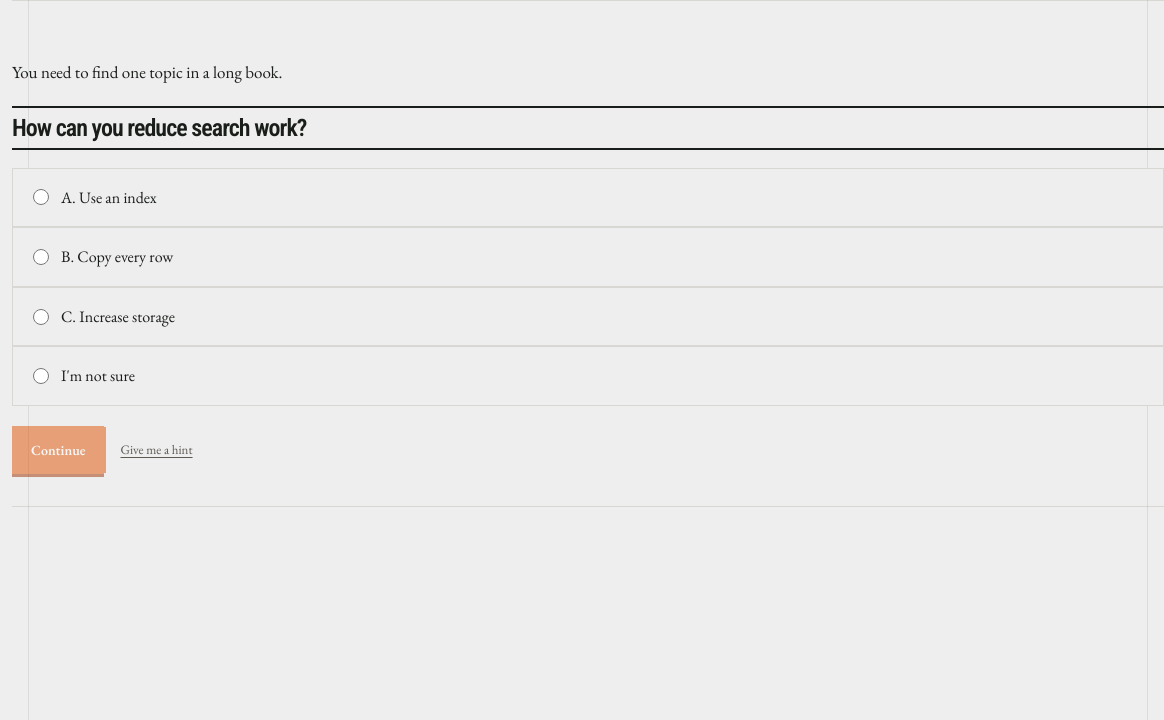
Test: keeps the selected answer on errors and retries only after the learner acts
Expected: the heading "How can you reduce search work?" is shown, [12,114,306,142]
Click the radio button labelled "B. Copy every row".
click(41, 257)  # box [33,249,49,265]
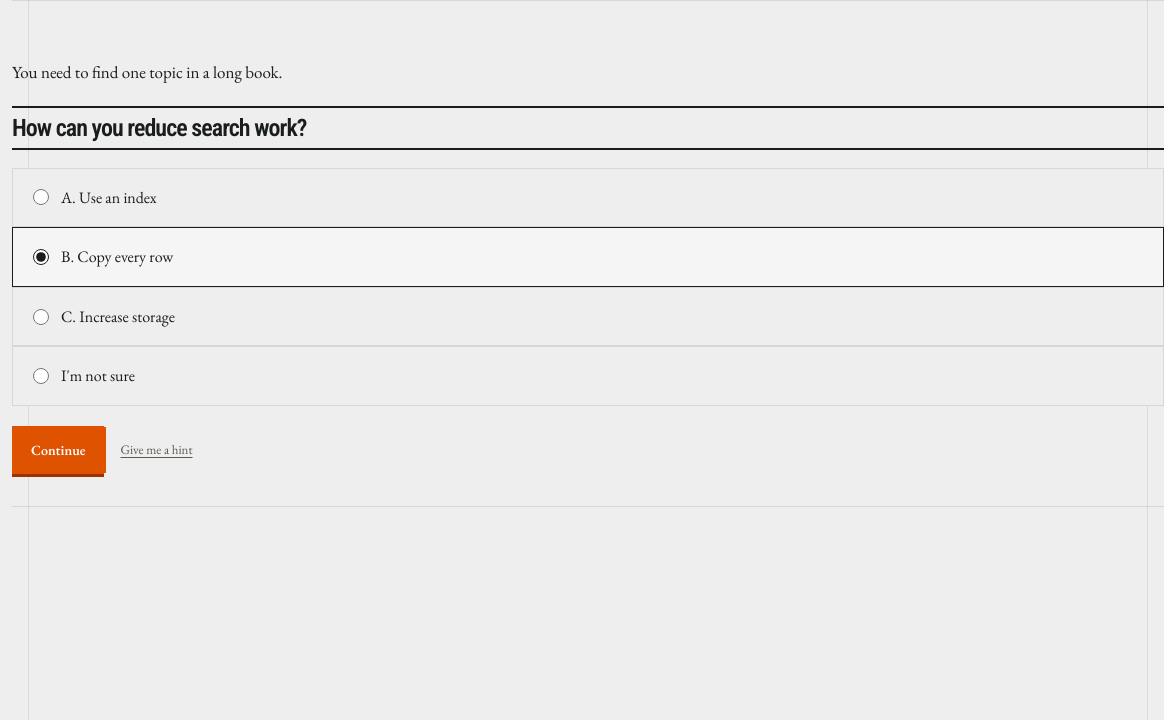
Click the button "Continue".
click(58, 450)  # box [12,426,104,474]
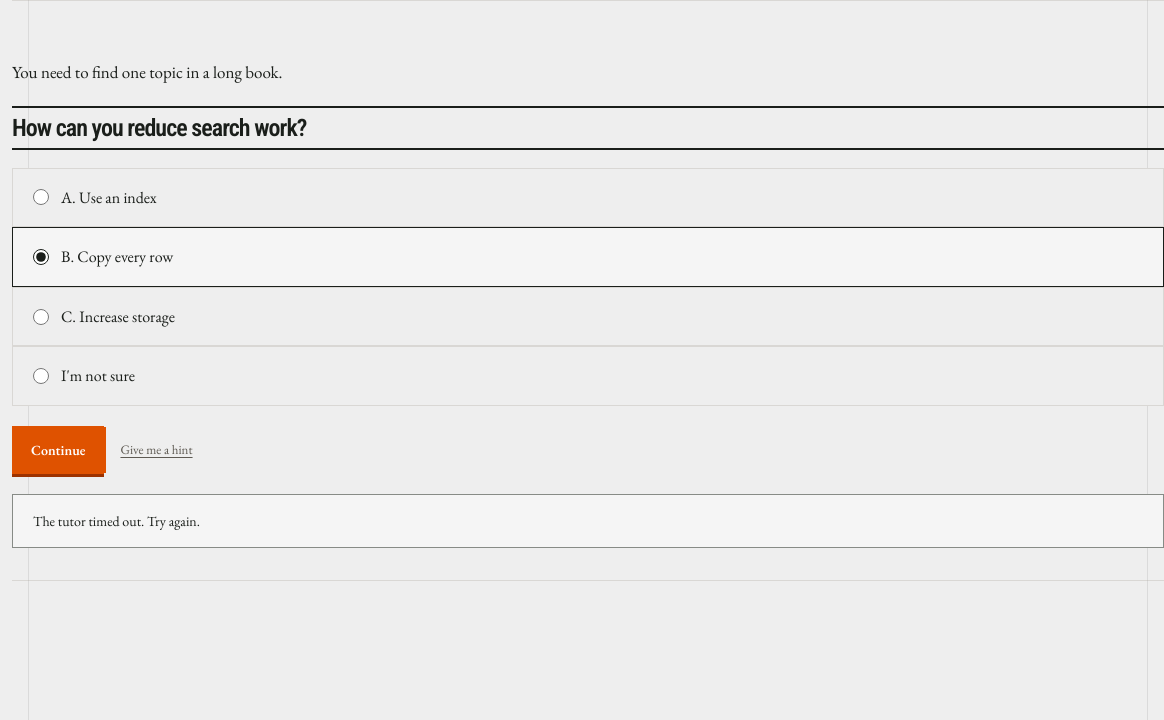
Expected: the radio button labelled "B. Copy every row" is checked, [33,249,49,265]
Expected: the message shows "The tutor timed out.", [33,512,200,530]
Click the button "Continue".
click(58, 450)  # box [12,426,104,474]
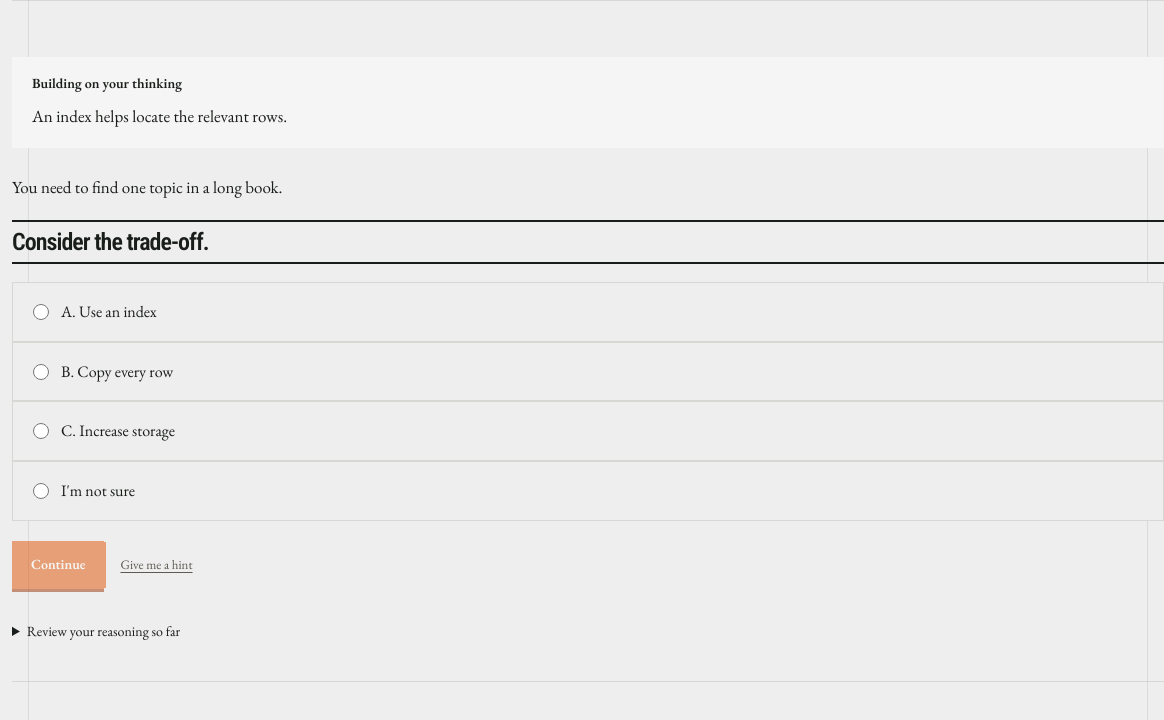
Expected: the heading "Consider the trade-off." is shown, [12,228,209,256]
